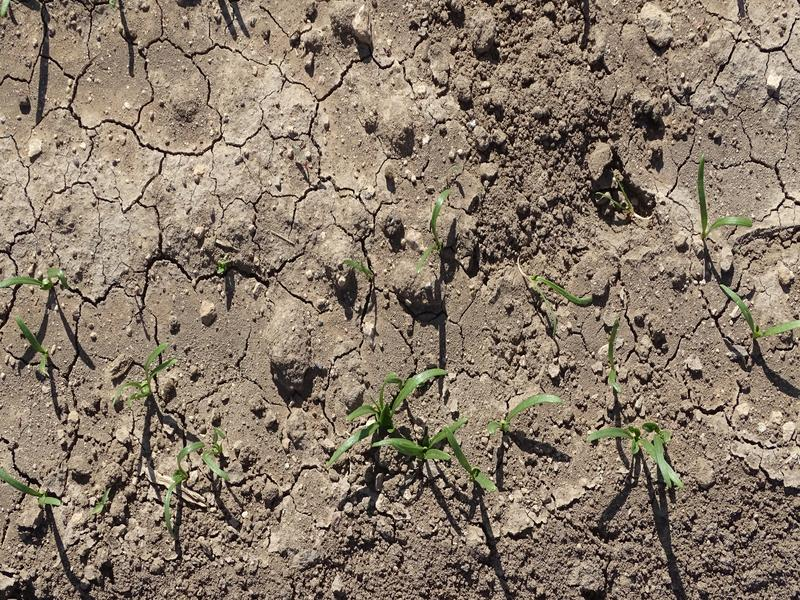Espinaca: (347, 378, 455, 473), (593, 415, 698, 491), (157, 431, 229, 513), (719, 286, 800, 345), (692, 153, 752, 232), (411, 185, 455, 270), (490, 393, 555, 440), (123, 341, 171, 404), (14, 318, 57, 375), (1, 469, 56, 511), (1, 262, 78, 289)
